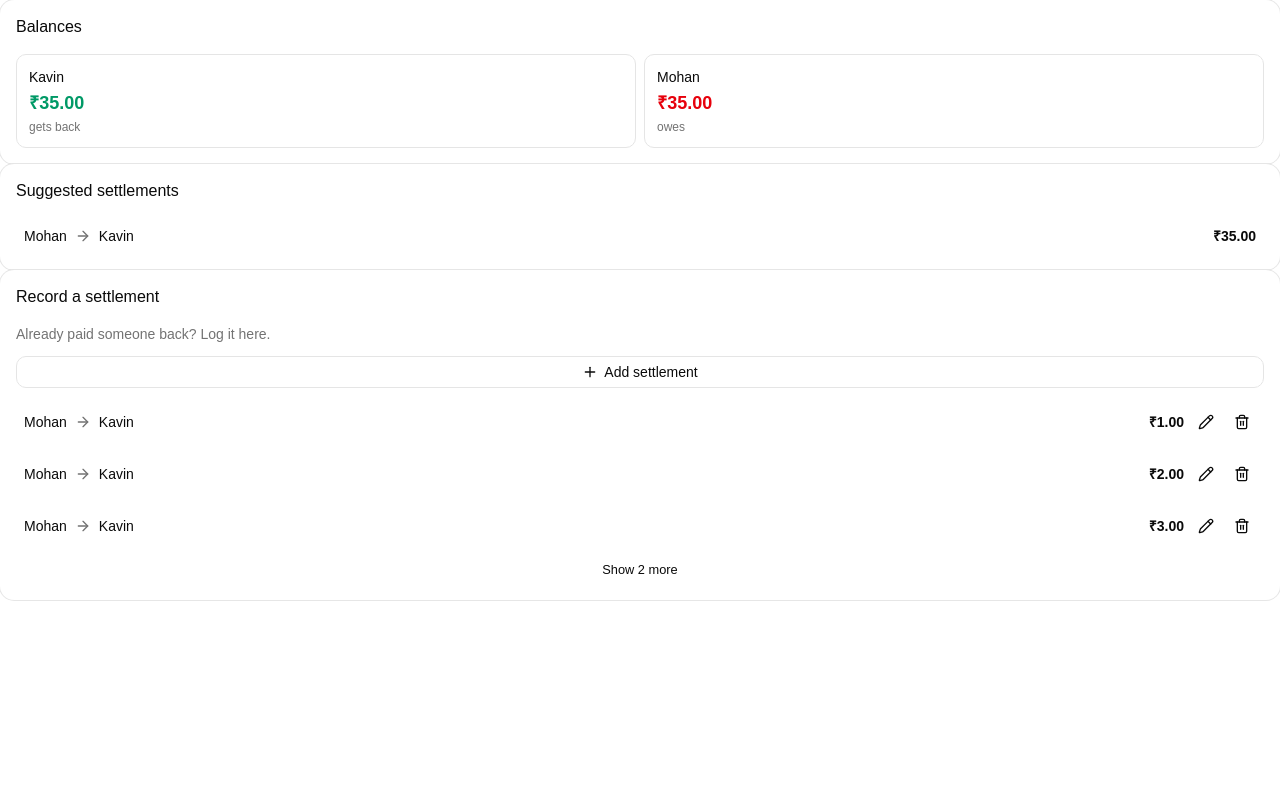
Test: SettlementsView › progressive disclosure › reveals the rest on click, then collapses back on a second click
Click the button "Show 2 more": (640, 570) top-left (591, 556), bottom-right (689, 584)
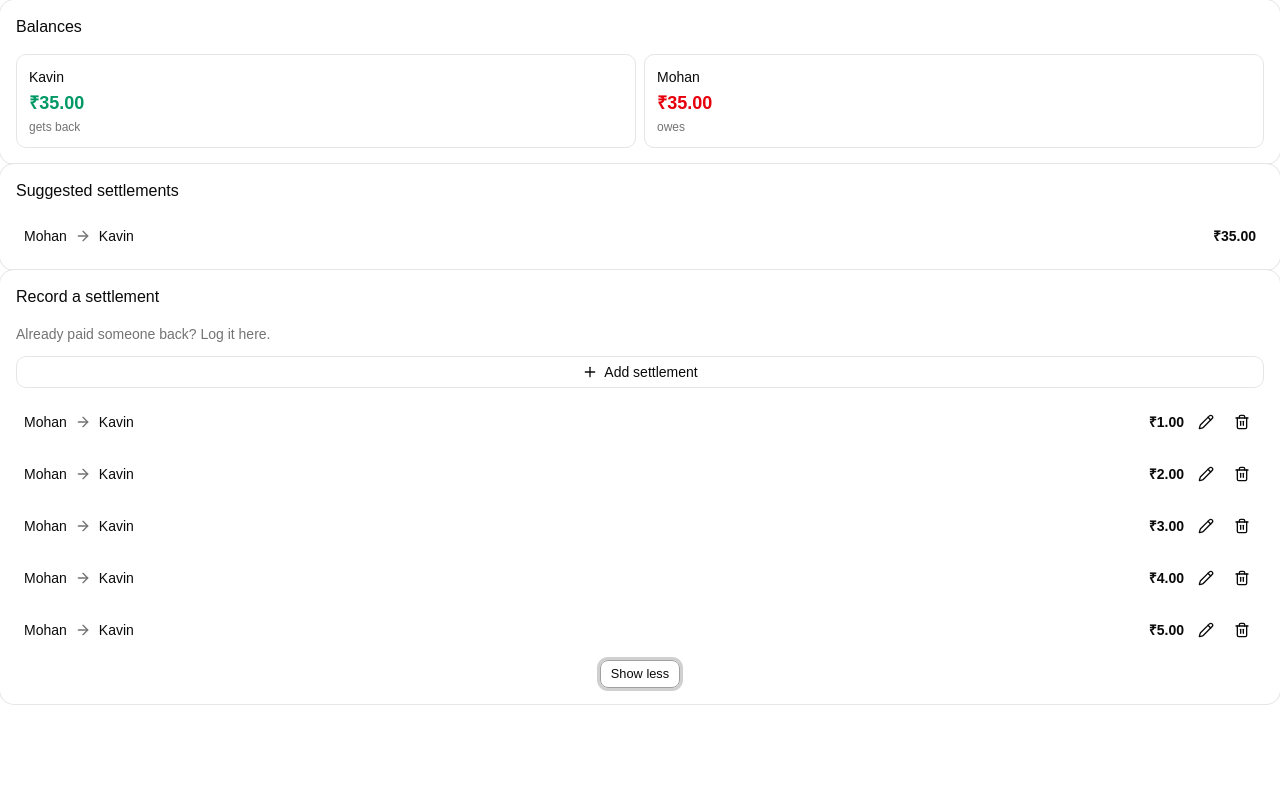
Check: the text "₹4.00" is shown, box top-left (1149, 568), bottom-right (1184, 588)
Check: the text "₹5.00" is shown, box top-left (1149, 620), bottom-right (1184, 640)
Click the button "Show less": (640, 674) top-left (600, 660), bottom-right (680, 688)
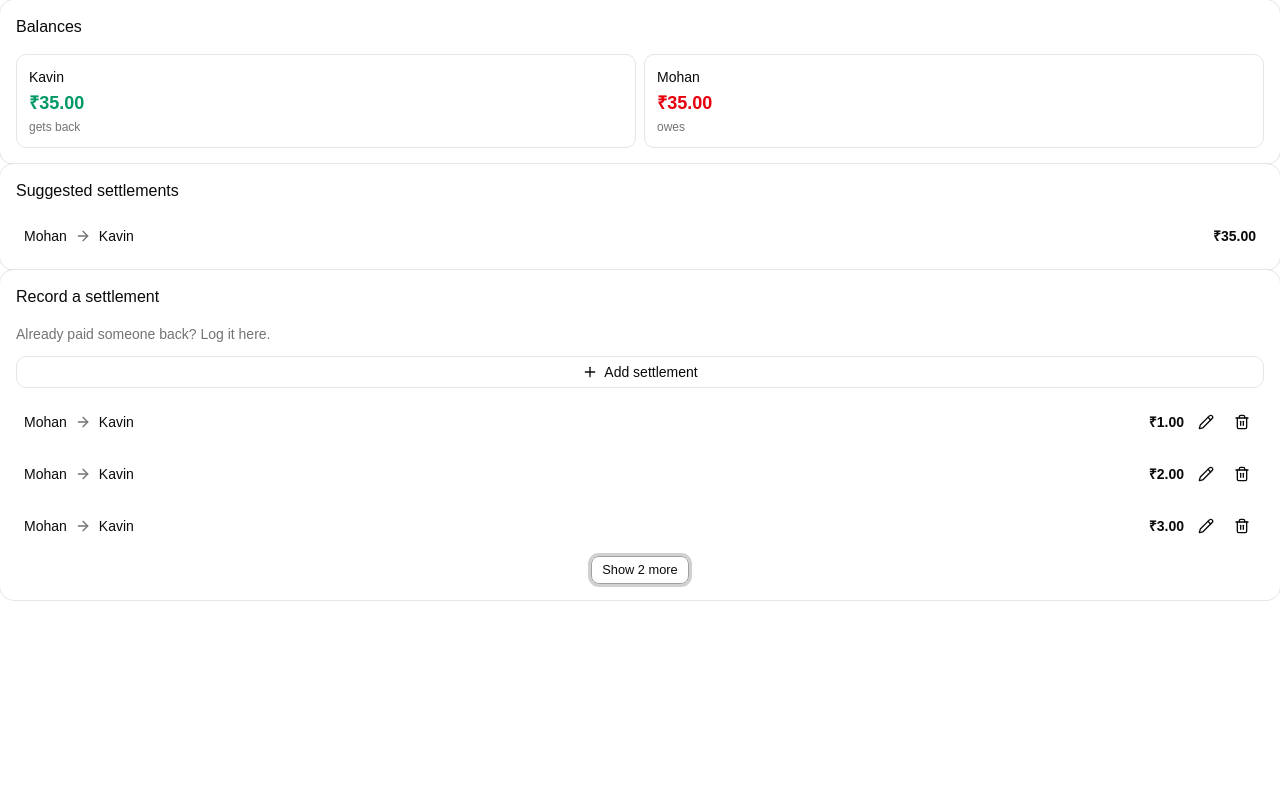
Check: the button "₹4.00" is gone
Check: the button "₹5.00" is gone
